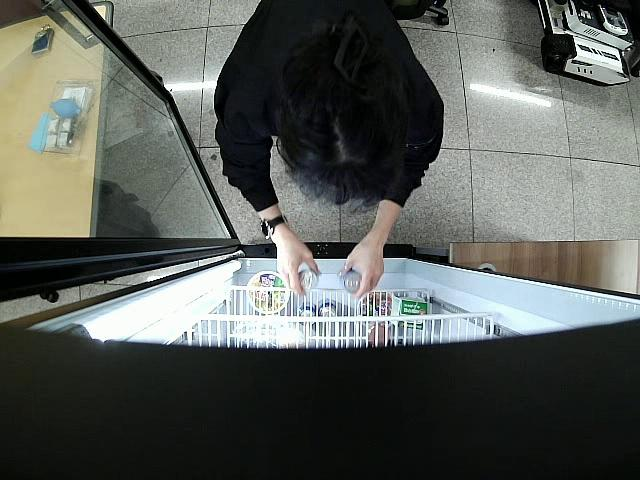00_hand: (339, 239, 385, 299), (276, 239, 321, 296)
15_letsbe: (336, 267, 364, 294), (299, 268, 319, 294)
